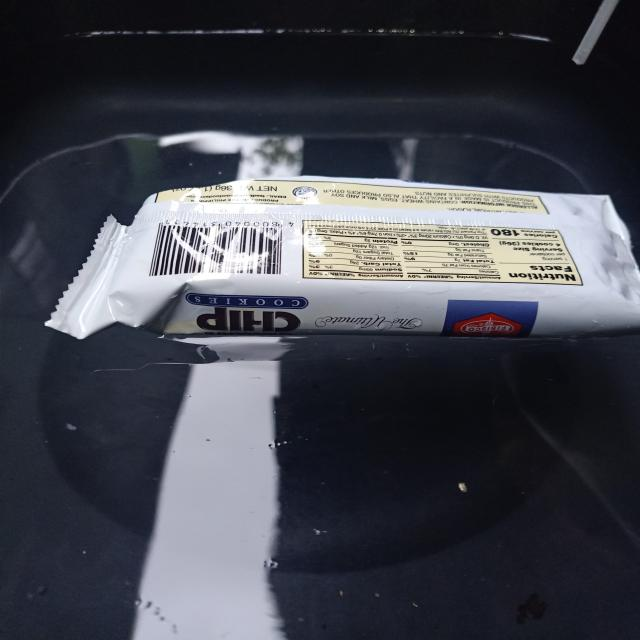Plastic Wrapper: (32, 172, 640, 350)
